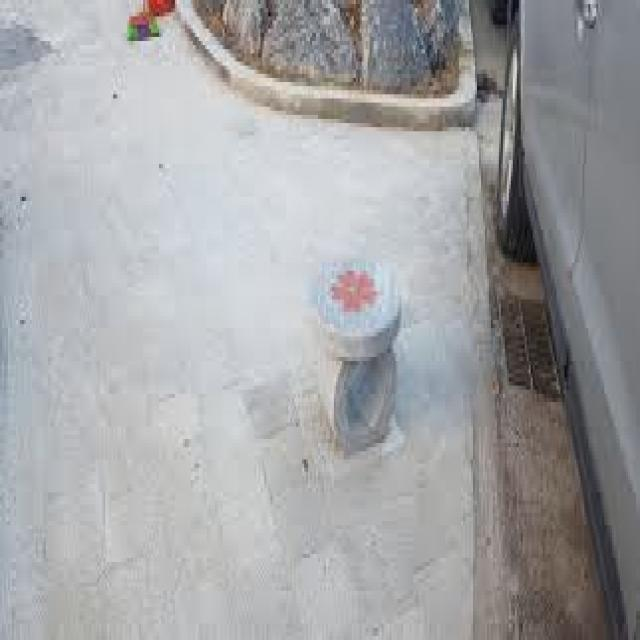bollard: (306, 245, 410, 465)
